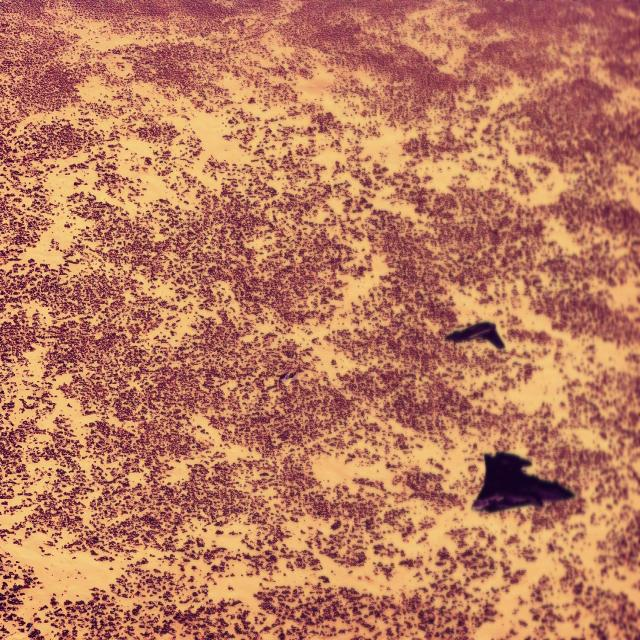airplane: (471, 449, 575, 512), (443, 320, 504, 348)
